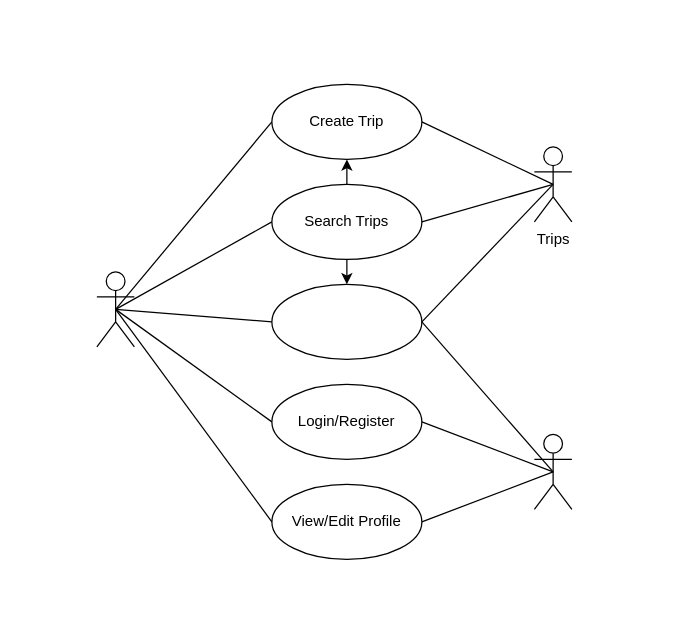
Some shapes in this 693 by 618 pixel diagram are drawn without their labels. Each missing label, with the centre of its shape:
"Authentication" goes at pixel 552 471.
"Join Trip" goes at pixel 346 321.
"Rider" goes at pixel 115 309.
